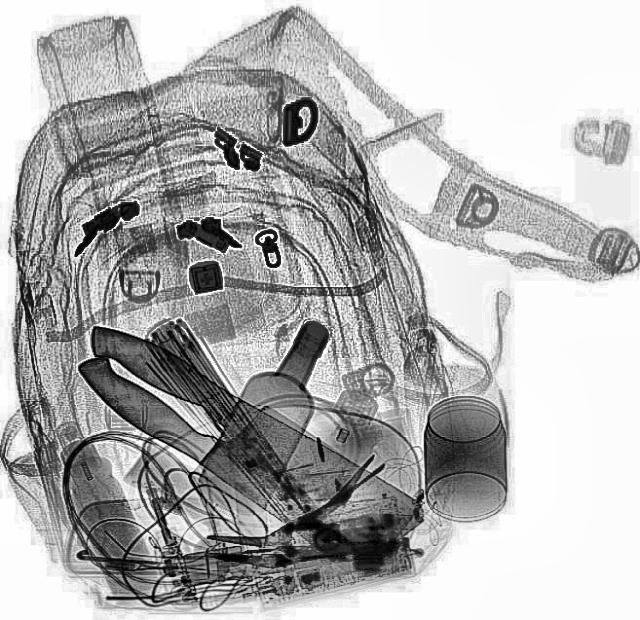Knife: (44, 309, 432, 587), (63, 310, 433, 580)
